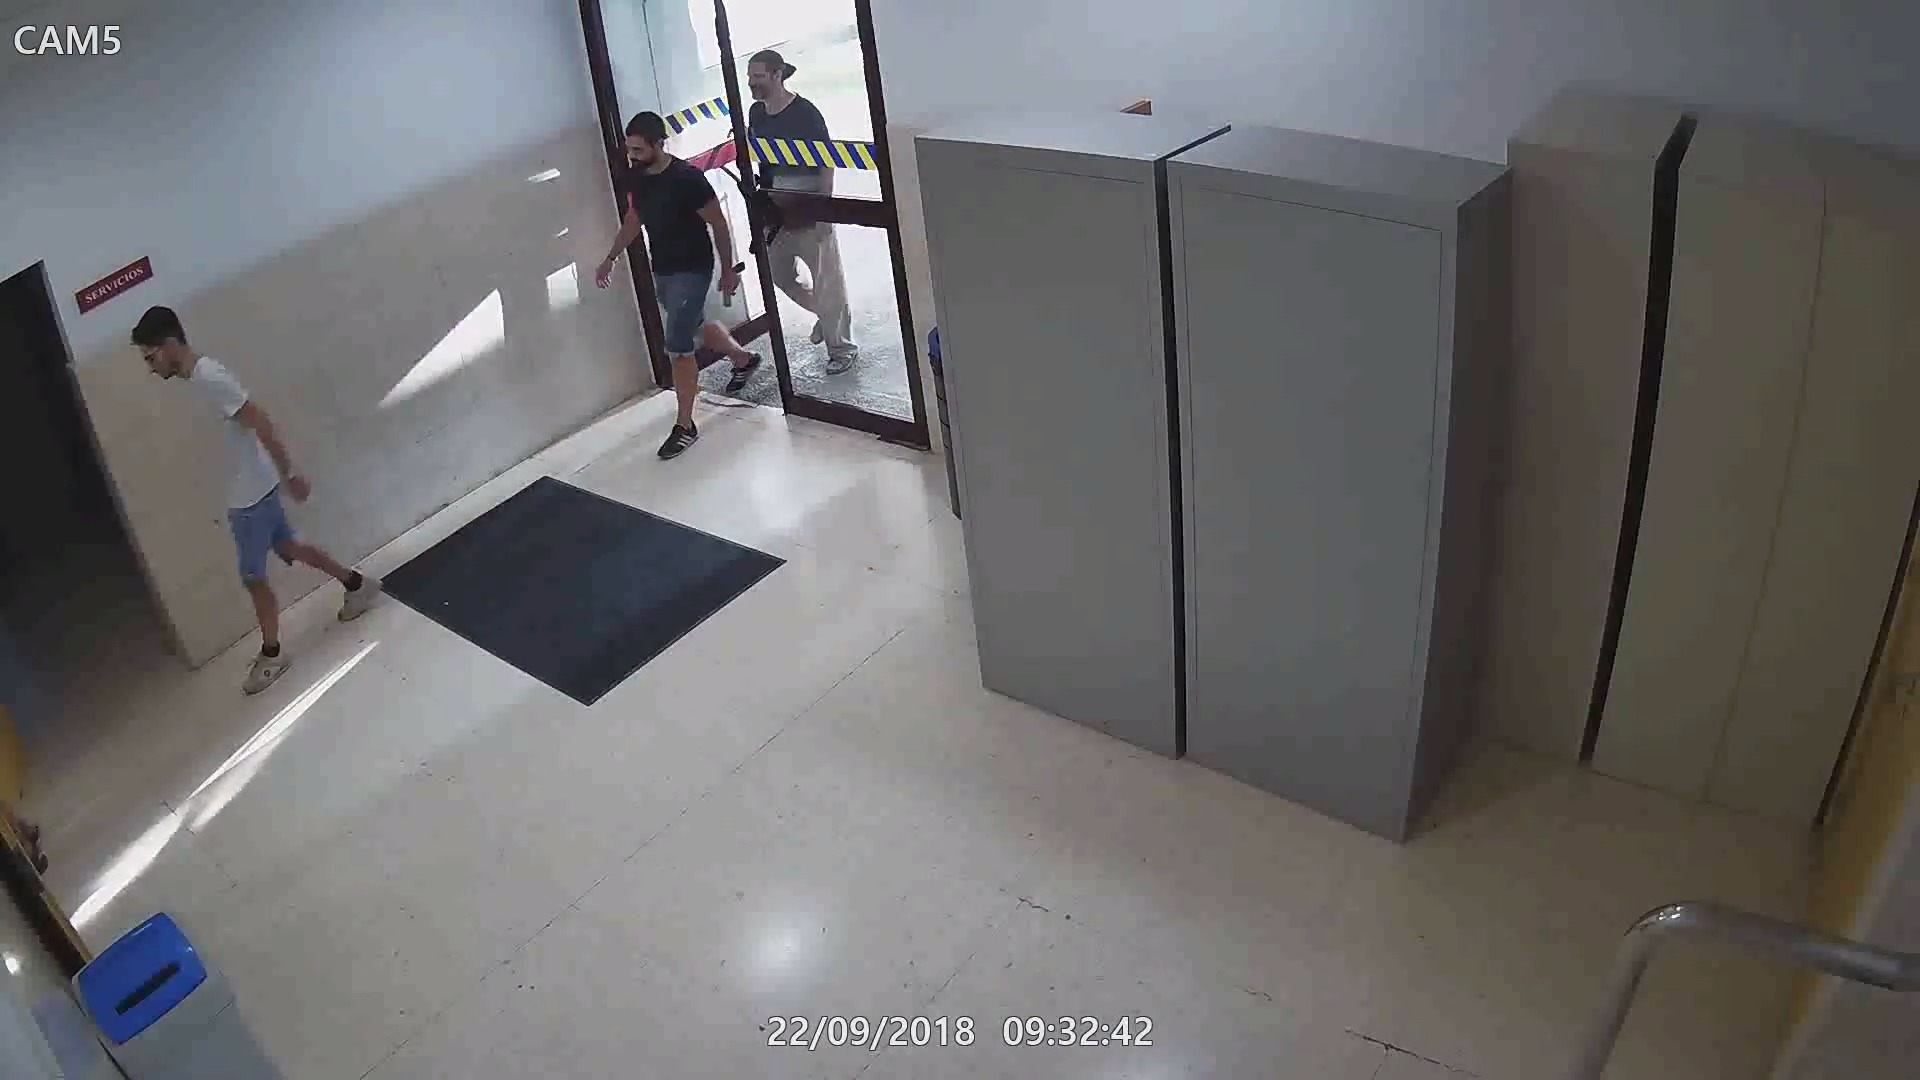Handgun: (715, 253, 752, 310)
